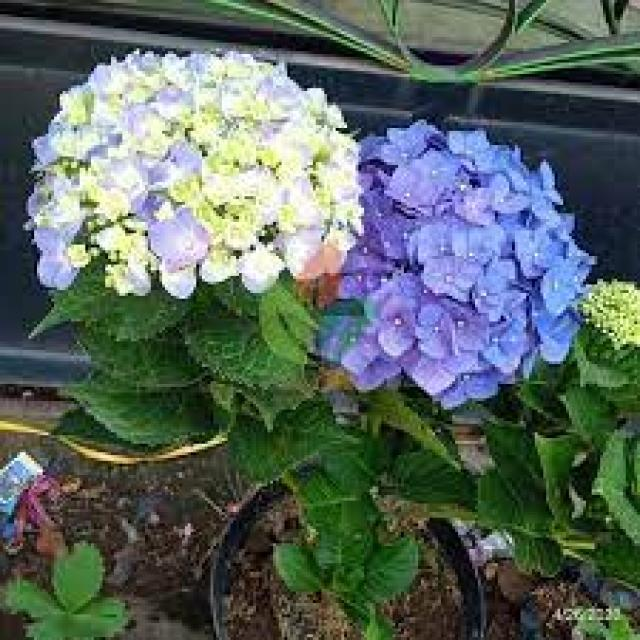Flower: (20, 43, 364, 293), (336, 111, 592, 398)
